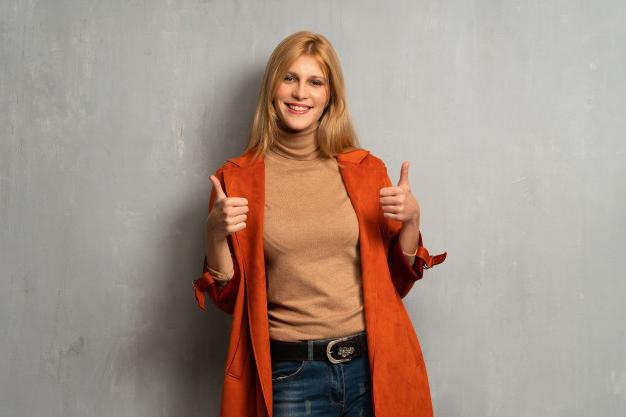thumbsup: (209, 175, 249, 233), (379, 160, 412, 221)
